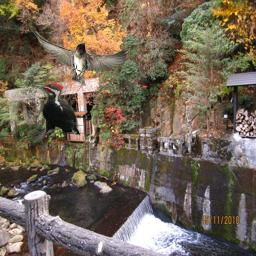Swallow: (30, 27, 130, 87)
Woodpecker: (31, 79, 81, 139)
